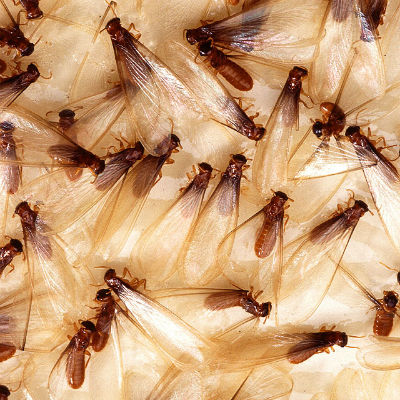flying termite: (99, 13, 209, 162), (91, 255, 211, 374), (297, 196, 374, 309), (2, 104, 106, 186), (133, 162, 211, 270), (10, 197, 82, 310), (252, 52, 308, 185), (233, 185, 293, 288), (203, 144, 247, 274), (220, 329, 351, 372)
